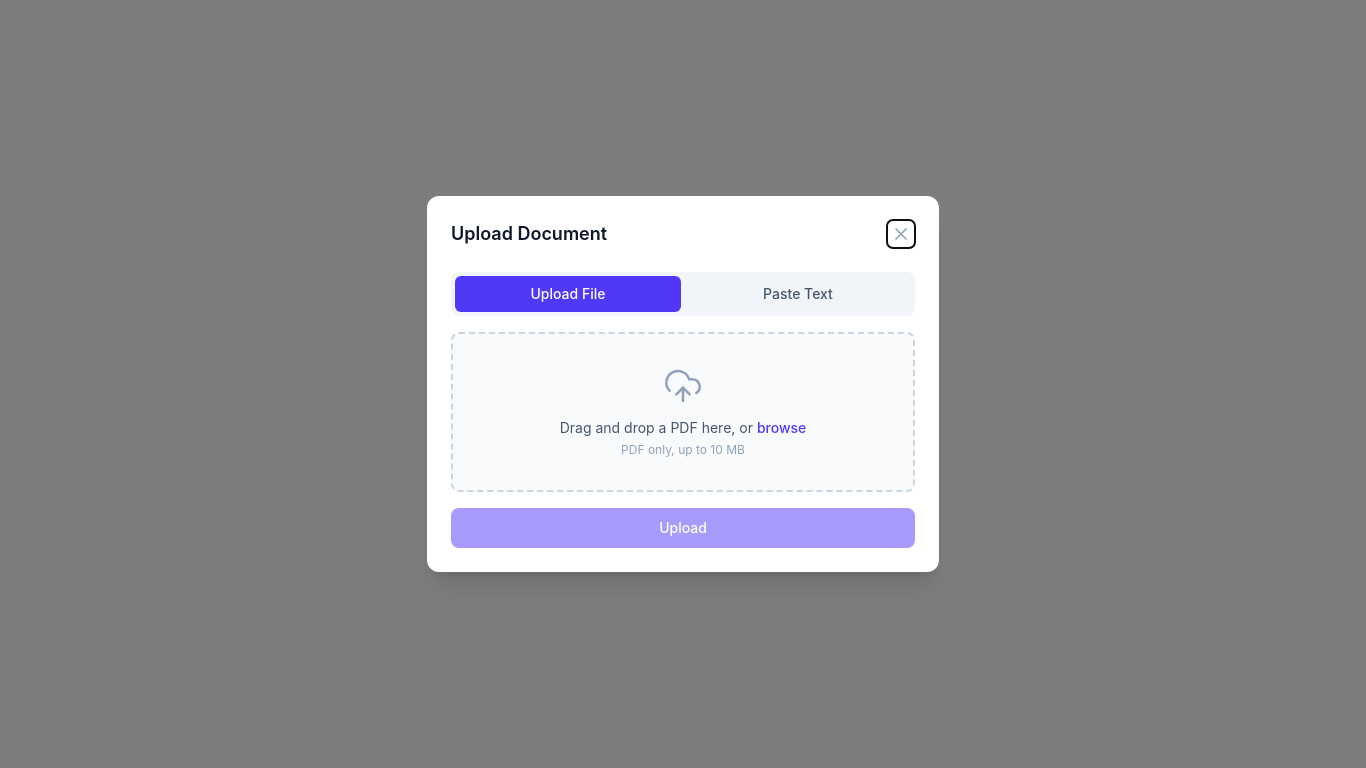
Test: UploadDialog › tab switching shows file/text content
Check: the text "Drag and drop a PDF here, or browse" is shown, box 560,418 -> 806,438
// Switch to text tab
Click the button "Paste Text": (798, 294) 685,276 -> 911,312
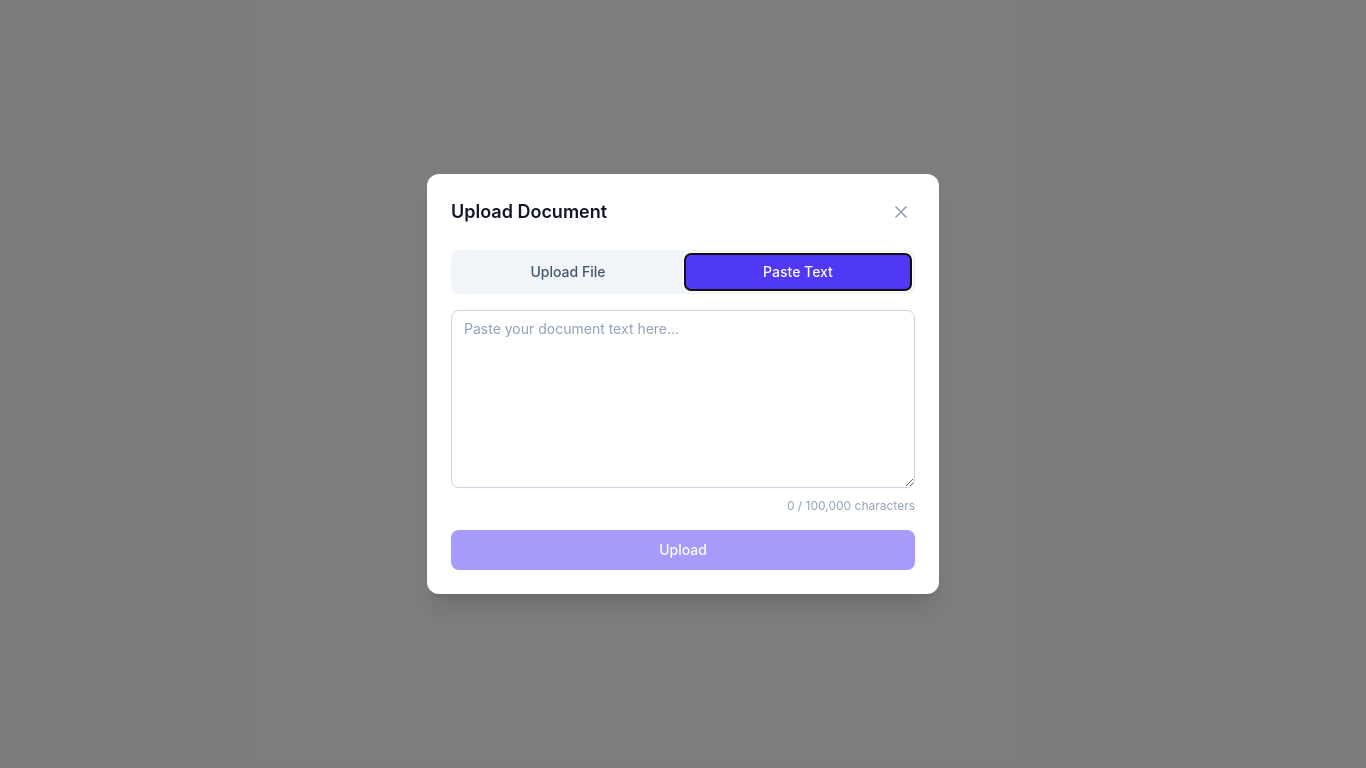
Check: the text box with placeholder "Paste your document text here..." is shown, box 451,310 -> 915,488
